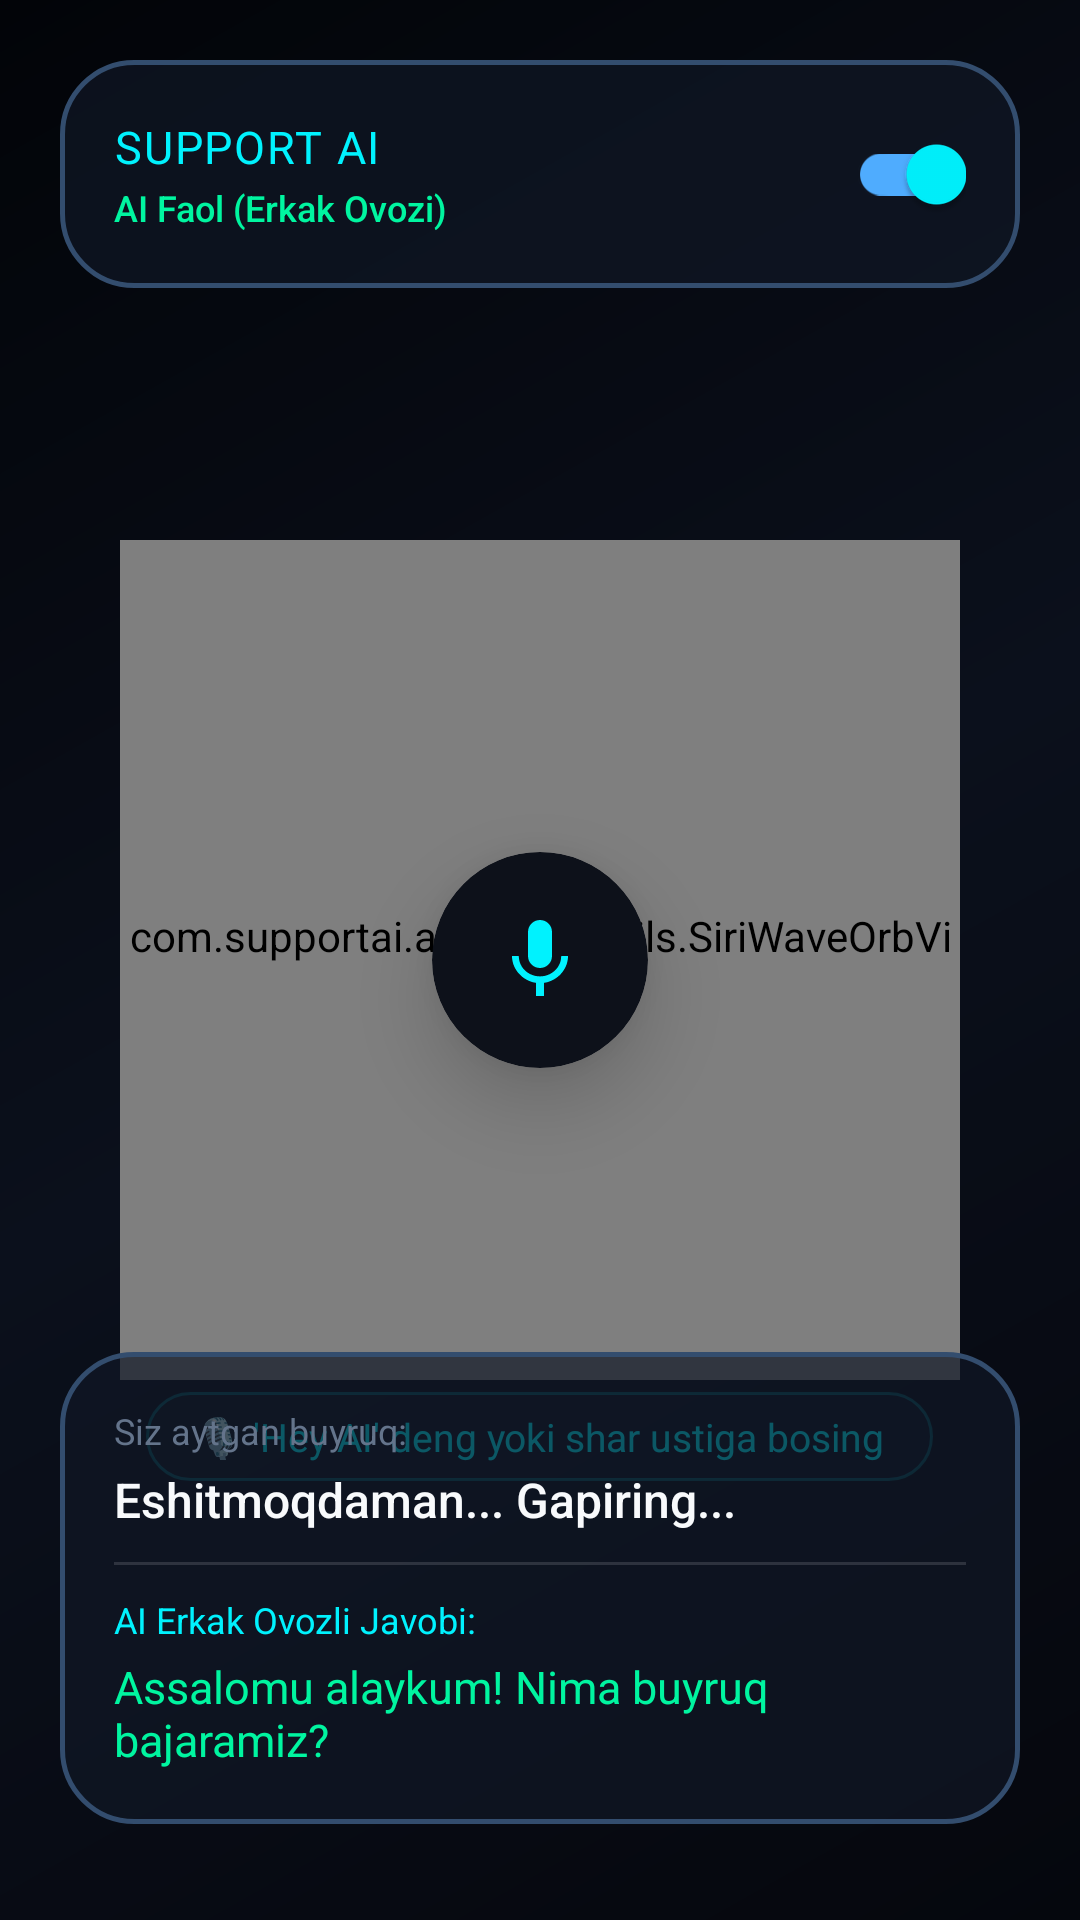

Named icons in this screenshot (1080w x 1920h) and their bounding boxes, BBox(x1, y1, x2, y2):
Speak: BBox(512, 920, 568, 996)
